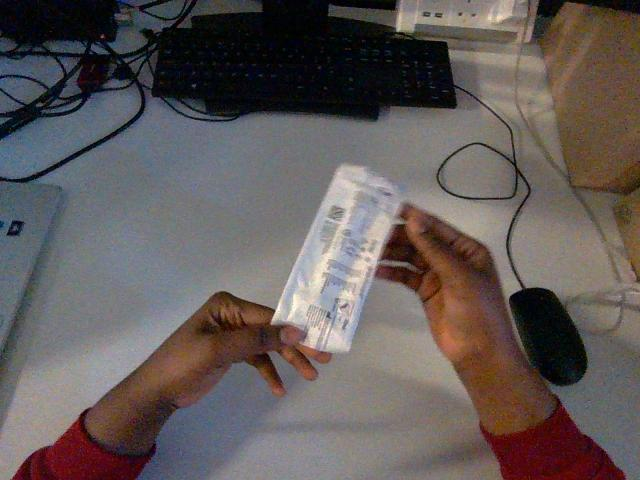syringe: (271, 165, 401, 351)
